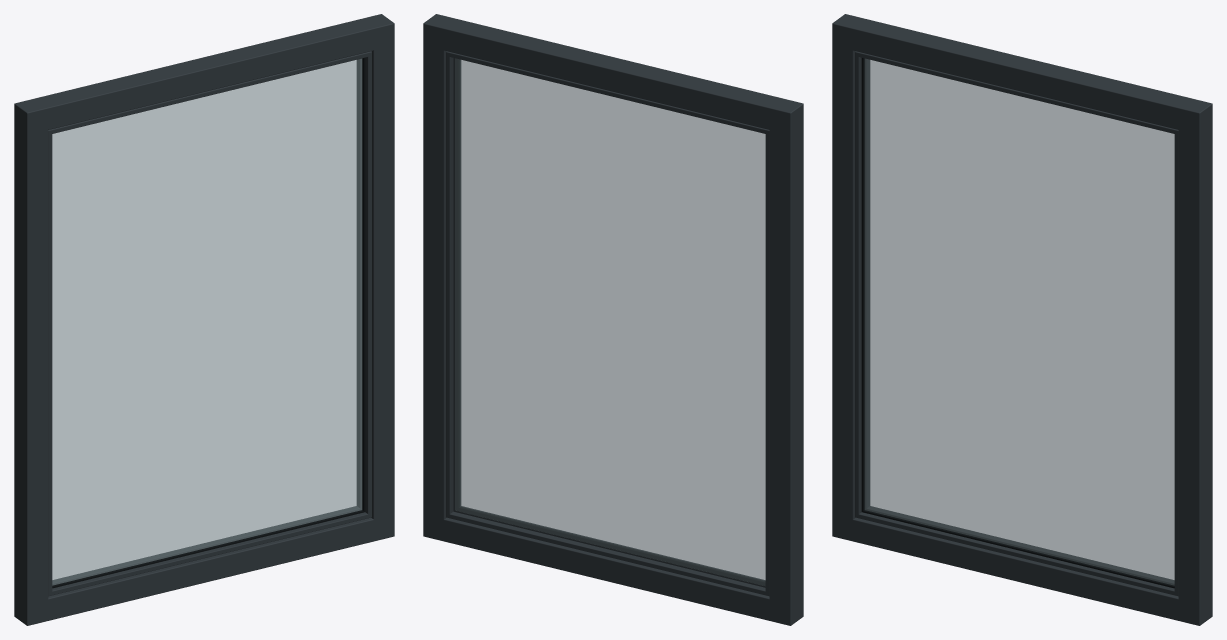
File: window_fixed_3bf5c5a2.glb
3 views of the same model, side by side, from view 1: azimuth 30°, elevation 25°; view 2: azimuth 150°, elevation 25°; view 3: azimuth 330°, elevation 25° (orthographic).
Visible parts, largest first — view 1: PV_glazing_0_4, frame_left_0, frame_top_2, frame_right_1, frame_bottom_3, glazing_bead_4_1_vertical (×2), glazing_bead_4_1_horizontal (×2), glazing_bead_4_-1_vertical, glazing_bead_4_-1_horizontal, gasket_4_vertical, gasket_4_horizontal; view 2: PV_glazing_0_4, frame_left_0, frame_right_1, frame_top_2, frame_bottom_3, glazing_bead_4_-1_vertical (×2), glazing_bead_4_-1_horizontal (×2), gasket_4_vertical, glazing_bead_4_1_vertical, gasket_4_horizontal, glazing_bead_4_1_horizontal; view 3: PV_glazing_0_4, frame_right_1, frame_top_2, frame_left_0, frame_bottom_3, glazing_bead_4_1_vertical (×2), glazing_bead_4_1_horizontal (×2), glazing_bead_4_-1_vertical, glazing_bead_4_-1_horizontal, gasket_4_vertical, gasket_4_horizontal.
Boxes of the visible parts, <box> form: PV_glazing_0_4: <box>52,58,362,585</box>; frame_left_0: <box>14,98,48,625</box>; frame_top_2: <box>14,19,393,134</box>; frame_right_1: <box>362,14,394,541</box>; frame_bottom_3: <box>14,517,394,625</box>; glazing_bead_4_1_vertical (×2): <box>48,51,371,595</box>; glazing_bead_4_1_horizontal (×2): <box>48,51,371,596</box>; glazing_bead_4_-1_vertical: <box>356,58,362,509</box>; glazing_bead_4_-1_horizontal: <box>52,506,360,585</box>; gasket_4_vertical: <box>362,58,365,510</box>; gasket_4_horizontal: <box>52,510,365,588</box>; PV_glazing_0_4: <box>455,58,765,585</box>; frame_left_0: <box>769,98,803,625</box>; frame_right_1: <box>423,14,455,541</box>; frame_top_2: <box>423,19,803,133</box>; frame_bottom_3: <box>424,517,803,625</box>; glazing_bead_4_-1_vertical (×2): <box>446,51,769,595</box>; glazing_bead_4_-1_horizontal (×2): <box>446,51,769,596</box>; gasket_4_vertical: <box>455,58,459,508</box>; glazing_bead_4_1_vertical: <box>453,58,461,510</box>; gasket_4_horizontal: <box>455,506,765,585</box>; glazing_bead_4_1_horizontal: <box>453,506,765,587</box>; PV_glazing_0_4: <box>864,58,1174,585</box>; frame_right_1: <box>1178,98,1212,625</box>; frame_top_2: <box>832,19,1212,133</box>; frame_left_0: <box>832,14,864,541</box>; frame_bottom_3: <box>833,517,1212,625</box>; glazing_bead_4_1_vertical (×2): <box>855,51,1178,595</box>; glazing_bead_4_1_horizontal (×2): <box>855,51,1178,596</box>; glazing_bead_4_-1_vertical: <box>864,58,870,509</box>; glazing_bead_4_-1_horizontal: <box>866,506,1174,585</box>; gasket_4_vertical: <box>861,58,864,512</box>; gasket_4_horizontal: <box>862,510,1174,588</box>.
Size of the model in its own units: 1.2 by 1.6 by 0.075.
